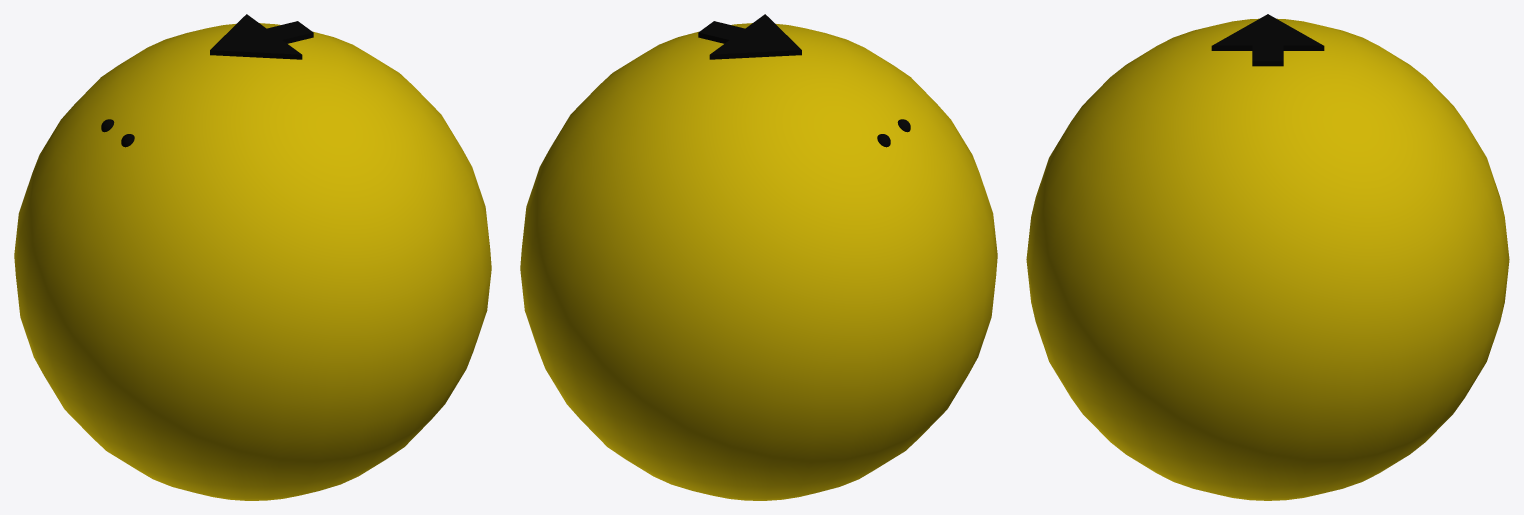
3 renders of one model, left to right at view 1: azimuth 30°, elevation 25°; view 2: azimuth 150°, elevation 25°; view 3: azimuth 270°, elevation 25°, orthographic.
Visible parts, largest first — view 1: Cube.021_Cube.009_Material.003, Cube.021_Cube.009_SVGMat; view 2: Cube.021_Cube.009_Material.003, Cube.021_Cube.009_SVGMat; view 3: Cube.021_Cube.009_Material.003, Cube.021_Cube.009_SVGMat.
Part boxes in pixels (x1=…): Cube.021_Cube.009_Material.003: x1=14, y1=23, x2=491, y2=500; Cube.021_Cube.009_SVGMat: x1=101, y1=14, x2=313, y2=147; Cube.021_Cube.009_Material.003: x1=520, y1=23, x2=997, y2=500; Cube.021_Cube.009_SVGMat: x1=698, y1=14, x2=910, y2=147; Cube.021_Cube.009_Material.003: x1=1026, y1=18, x2=1509, y2=500; Cube.021_Cube.009_SVGMat: x1=1211, y1=14, x2=1324, y2=66.
Size of the model in its own units: 0.4999 by 0.5016 by 0.4999.
